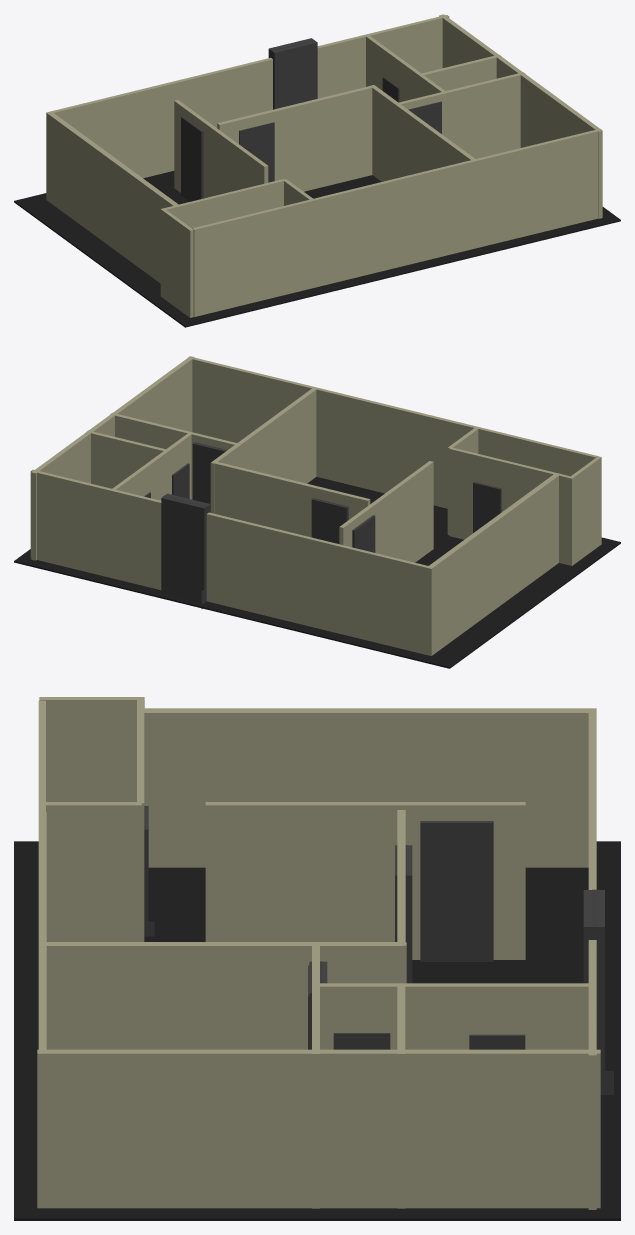
The model's file is no_roof.glb.
3 views of the same model, one above another, from view 1: azimuth 30°, elevation 25°; view 2: azimuth 150°, elevation 25°; view 3: azimuth 270°, elevation 25° (orthographic). The views are drawn at different scales.
Parts seen in each view (by area): view 1: world; view 2: world; view 3: world.
Part boxes in pixels (<box>): world: <box>14,14,620,327</box>; world: <box>14,356,620,668</box>; world: <box>14,697,620,1220</box>.
Bounding box in the file's own units: 15.68 × 3.41 × 10.67.
Materials: 1 (1 with a texture image).
